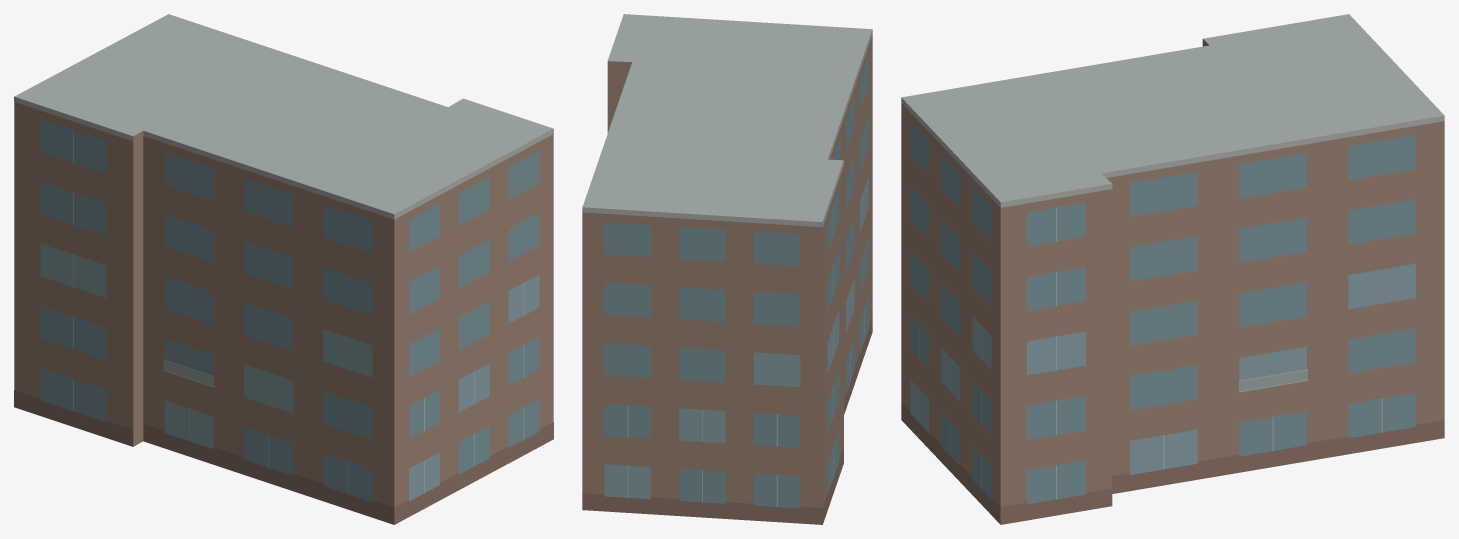
Rendered from survey-upis-33016720.glb.
The picture shows the model from 3 angles, left to right: view 1: azimuth 30°, elevation 25°; view 2: azimuth 150°, elevation 25°; view 3: azimuth 270°, elevation 25°; orthographic projection. The views are drawn at different scales.
Visible parts, largest first — view 1: survey-upis-33016720.tmp; view 2: survey-upis-33016720.tmp; view 3: survey-upis-33016720.tmp.
Part boxes in pixels (x1,y1,x2,y2): survey-upis-33016720.tmp: (14, 14, 553, 524); survey-upis-33016720.tmp: (582, 14, 872, 524); survey-upis-33016720.tmp: (901, 14, 1444, 524).
Bounding box in the file's own units: 18.18 × 14.5 × 22.16.
